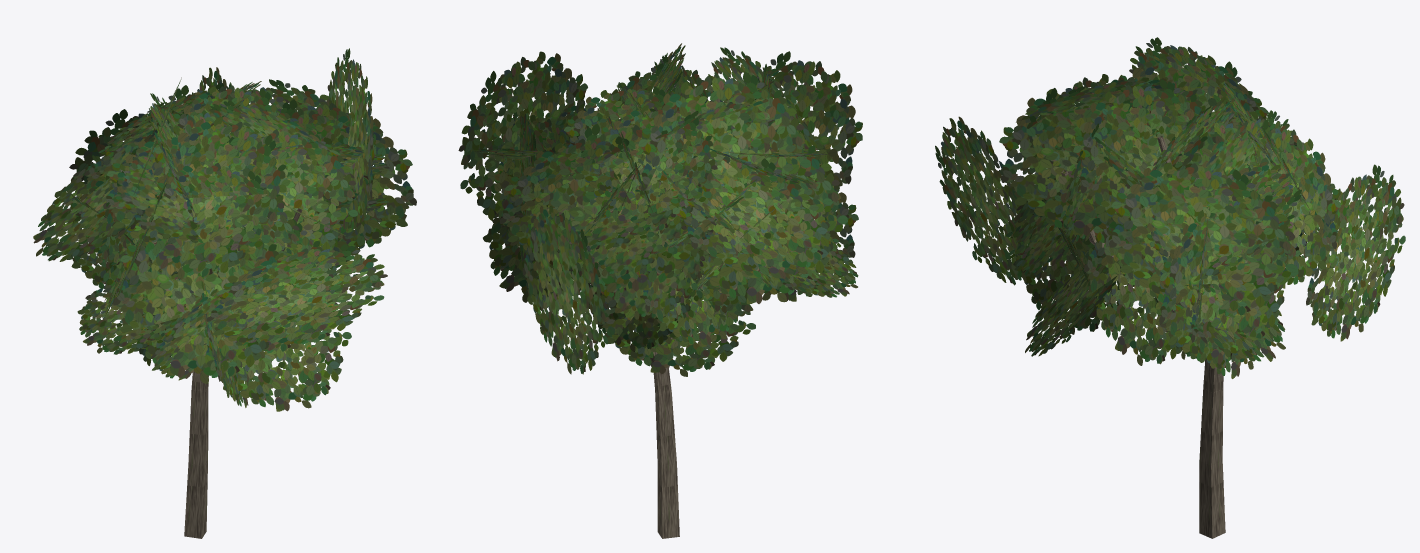
Rendered from CommonTree_1_LOD2.gltf.
3 renders of one model, left to right at view 1: azimuth 30°, elevation 25°; view 2: azimuth 150°, elevation 25°; view 3: azimuth 270°, elevation 25°, orthographic. The views are drawn at different scales.
Visible parts, largest first — view 1: CommonTree_1_LOD2; view 2: CommonTree_1_LOD2; view 3: CommonTree_1_LOD2.
Part boxes in pixels (x1,y1,x2,y2): CommonTree_1_LOD2: (33,48,416,538); CommonTree_1_LOD2: (458,43,862,538); CommonTree_1_LOD2: (935,37,1405,538).
Bounding box in the file's own units: 16.06 × 19.02 × 17.55.
Materials: 2 (2 with a texture image).
